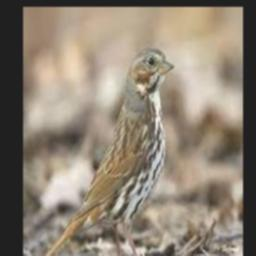Sparrow: (40, 47, 175, 256)
